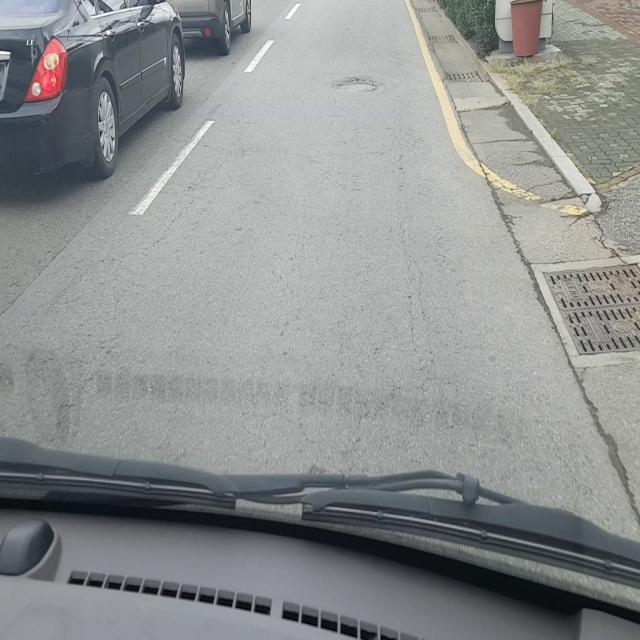Pothole: (329, 76, 379, 93)
